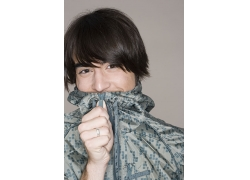face: (75, 47, 136, 109)
